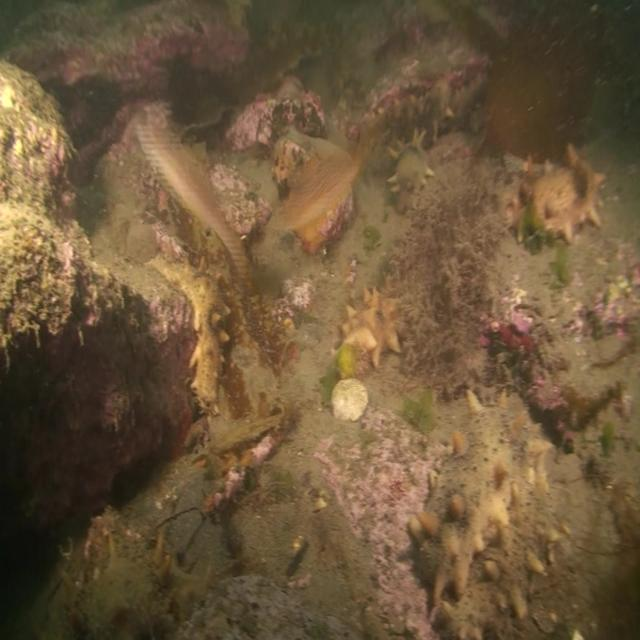holothurian: (411, 388, 552, 596), (442, 479, 561, 640), (166, 255, 231, 415), (511, 140, 609, 239), (343, 291, 415, 372), (384, 125, 434, 201)
